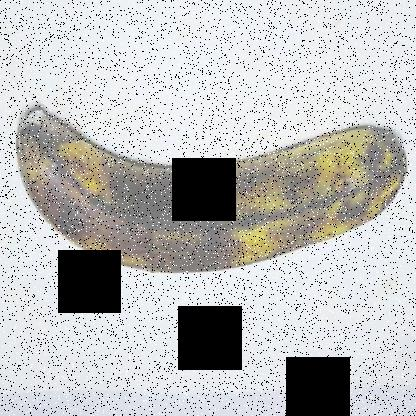overripe: (12, 85, 412, 292)
